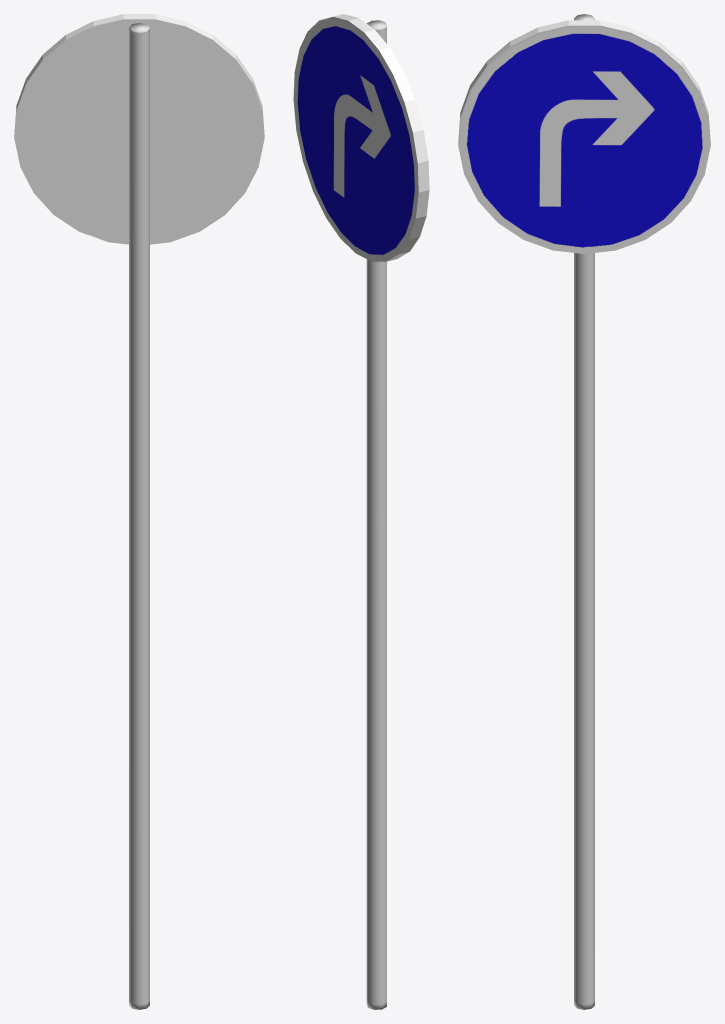
The model's file is sign_only_right_turn.glb.
3 views of the same model, side by side, from view 1: azimuth 90°, elevation 25°; view 2: azimuth 210°, elevation 25°; view 3: azimuth 270°, elevation 25° (orthographic).
Parts seen in each view (by area): view 1: only_right_turn, pole; view 2: only_right_turn, pole; view 3: only_right_turn, pole.
Part boxes in pixels (x1,y1,x2,y2): only_right_turn: (14, 14, 264, 244); pole: (129, 23, 149, 1009); only_right_turn: (293, 14, 429, 261); pole: (366, 20, 386, 1009); only_right_turn: (458, 20, 710, 253); pole: (574, 14, 594, 1009).
Size of the model in its own units: 0.0826 by 2.6 by 0.6.
2 materials, 1 textured.
